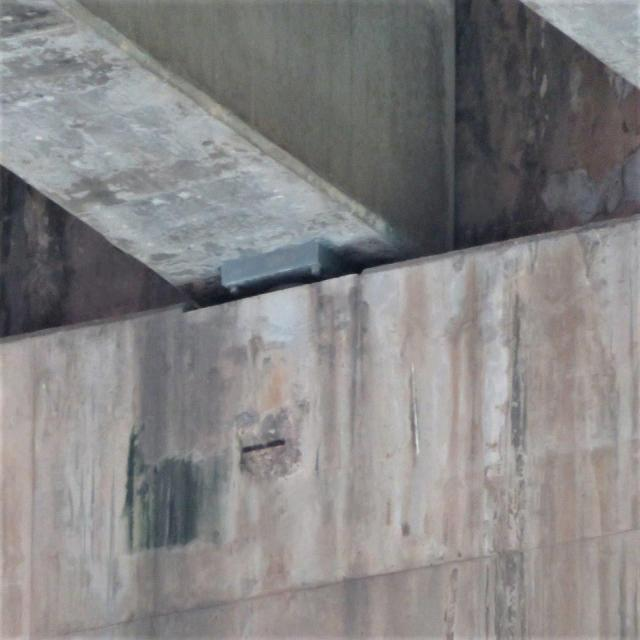Rebar: (232, 401, 306, 478)
